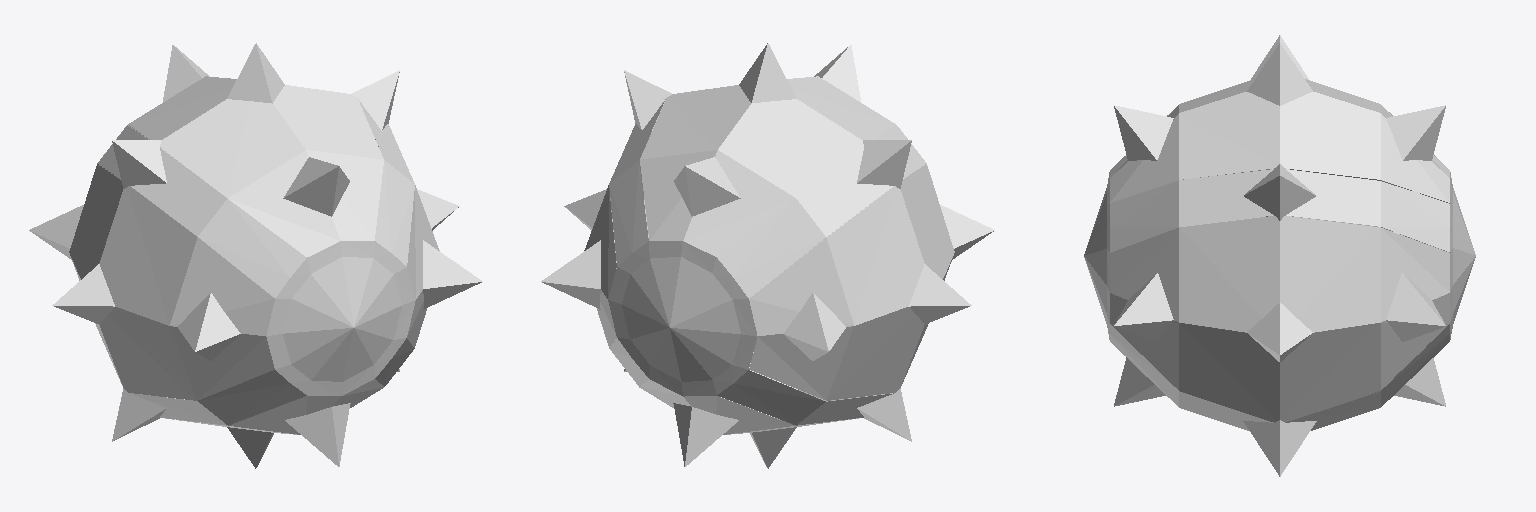
Rendered from cmn_obj_bomb_SD.obj.
3 views of the same model, side by side, from view 1: azimuth 30°, elevation 25°; view 2: azimuth 150°, elevation 25°; view 3: azimuth 270°, elevation 25° (orthographic).
Parts seen in each view (by area): view 1: polygon2, polygon1, polygon0; view 2: polygon2, polygon1, polygon0; view 3: polygon2, polygon1, polygon0.
Part boxes in pixels (left/top/right/bottom): polygon2: left=69, top=76, right=439, bottom=434; polygon1: left=97, top=99, right=415, bottom=425; polygon0: left=29, top=43, right=482, bottom=468; polygon2: left=584, top=76, right=954, bottom=434; polygon1: left=608, top=99, right=926, bottom=425; polygon0: left=541, top=43, right=994, bottom=468; polygon2: left=1110, top=79, right=1449, bottom=422; polygon1: left=1084, top=112, right=1475, bottom=430; polygon0: left=1114, top=35, right=1445, bottom=476.
Size of the model in its own units: 17.14 by 17.14 by 14.27.